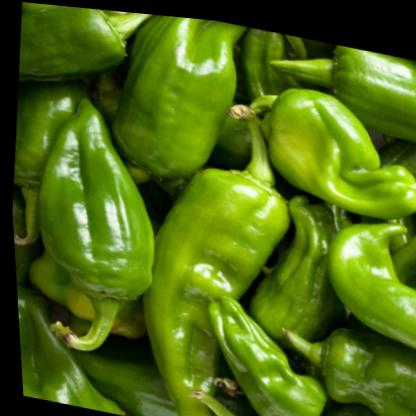--: (116, 106, 305, 416), (17, 74, 168, 384), (234, 42, 416, 240)
